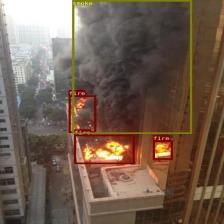fire: (74, 134, 134, 164), (68, 96, 96, 132), (152, 140, 172, 160)
smoke: (72, 0, 192, 134)
